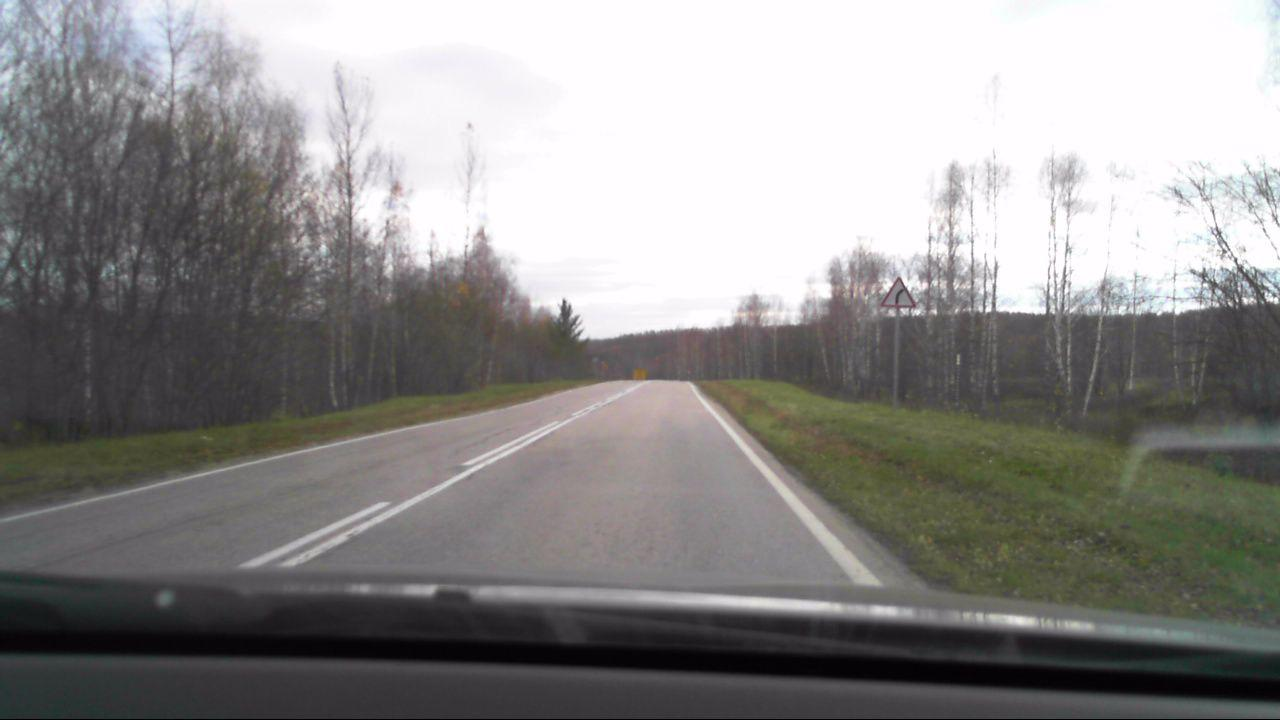1_11_1: (880, 276, 917, 310)
